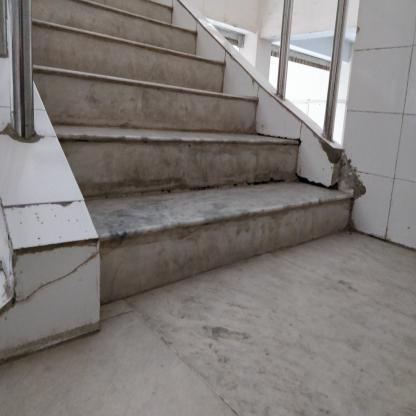stairs: (102, 117, 269, 311)
